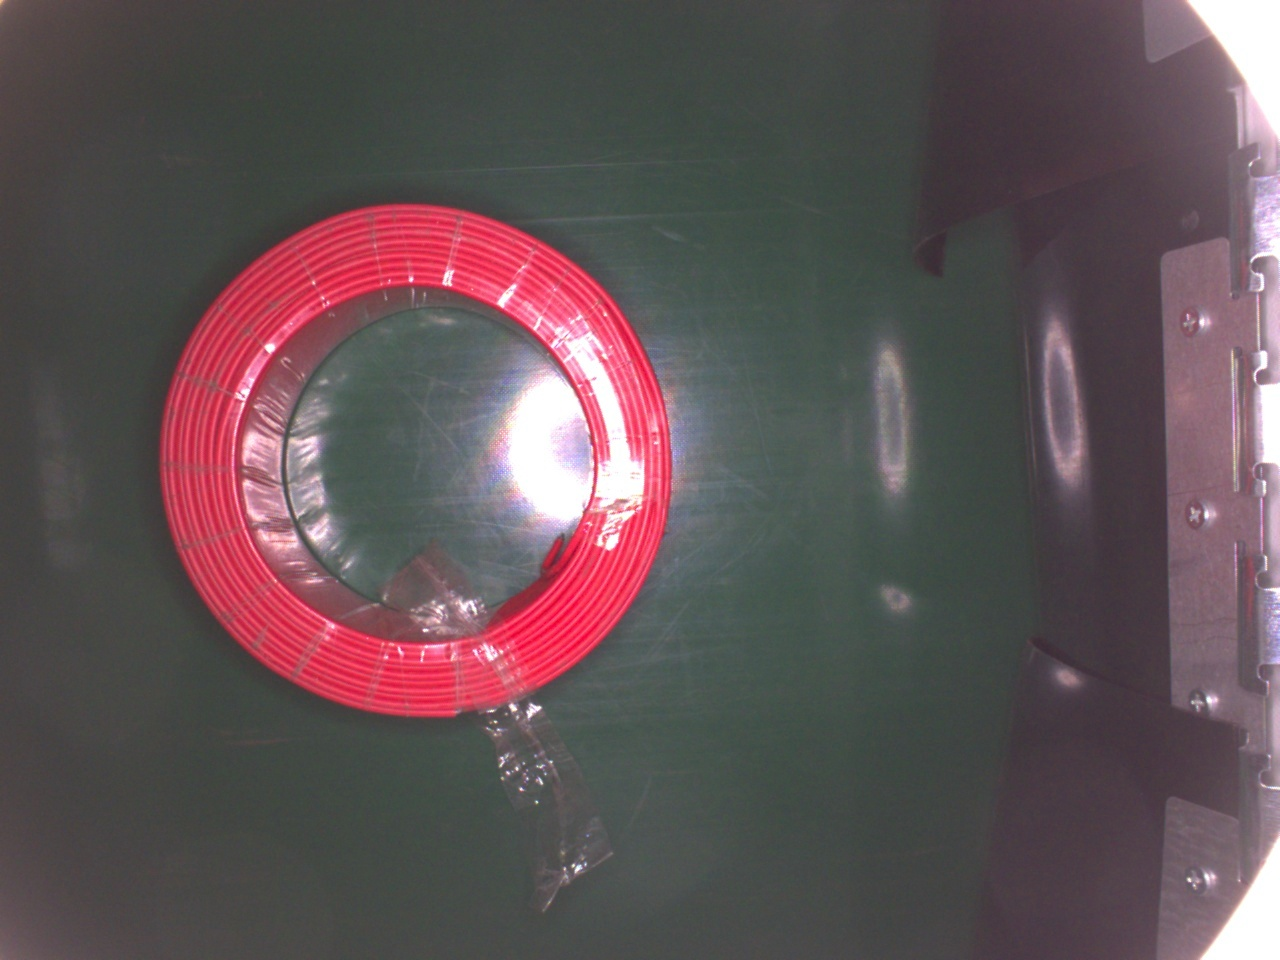red: (162, 199, 673, 711)
